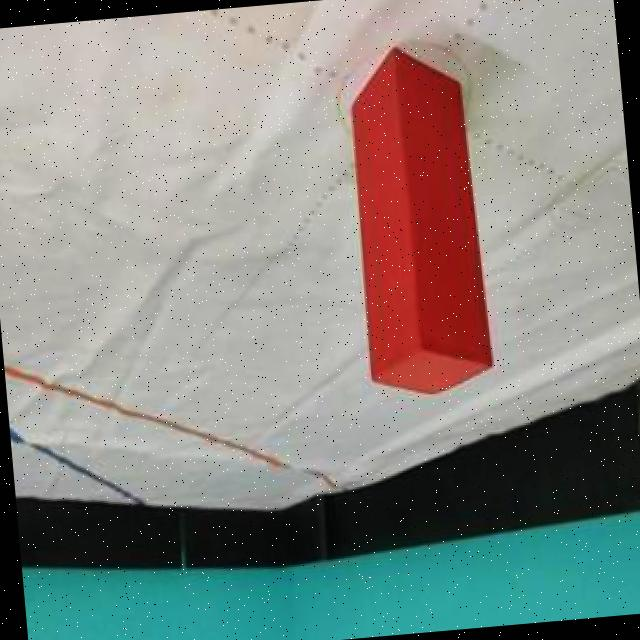redbox: (341, 41, 498, 403)
